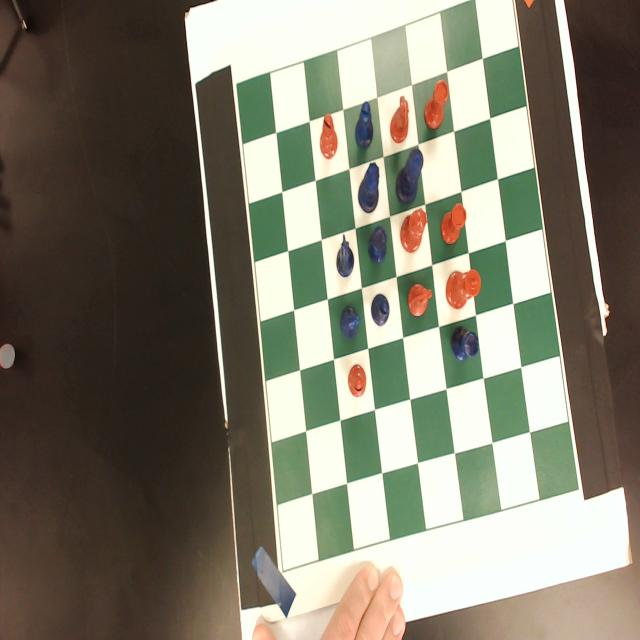B: (355, 100, 374, 151), (370, 292, 390, 328)
K: (394, 146, 425, 205)
N: (335, 233, 355, 278), (340, 303, 361, 340)
Q: (358, 159, 380, 213)
R: (450, 322, 480, 364), (366, 224, 389, 264)
b: (319, 111, 339, 161), (347, 361, 367, 400)
k: (444, 270, 482, 310)
n: (388, 92, 410, 146), (407, 282, 433, 319)
q: (399, 207, 429, 256)
r: (424, 78, 450, 133), (440, 202, 467, 248)
